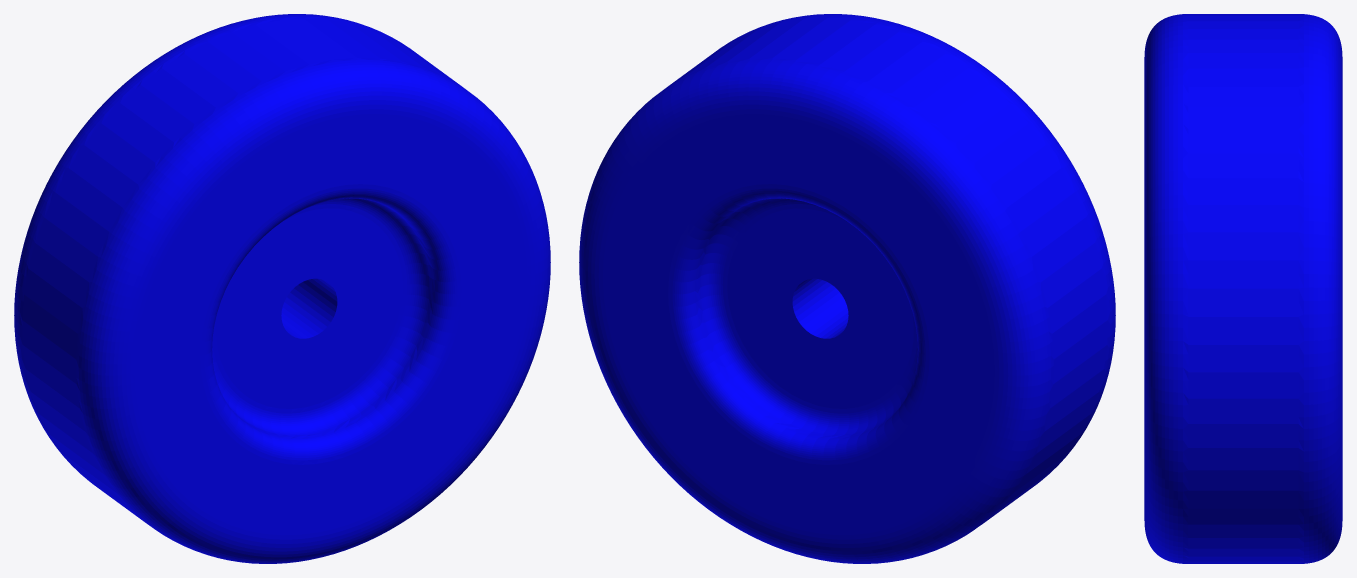
The model's file is right_wheel_new.dae.
3 renders of one model, left to right at view 1: azimuth 30°, elevation 25°; view 2: azimuth 150°, elevation 25°; view 3: azimuth 270°, elevation 25°, orthographic. The views are drawn at different scales.
Parts seen in each view (by area): view 1: Caffeine Full - Side wheels-2; view 2: Caffeine Full - Side wheels-2; view 3: Caffeine Full - Side wheels-2.
Part boxes in pixels (x1,y1,x2,y2): Caffeine Full - Side wheels-2: (14, 14, 550, 563); Caffeine Full - Side wheels-2: (579, 14, 1115, 563); Caffeine Full - Side wheels-2: (1144, 14, 1342, 563).
Size of the model in its own units: 0.2499 by 0.09 by 0.25.
